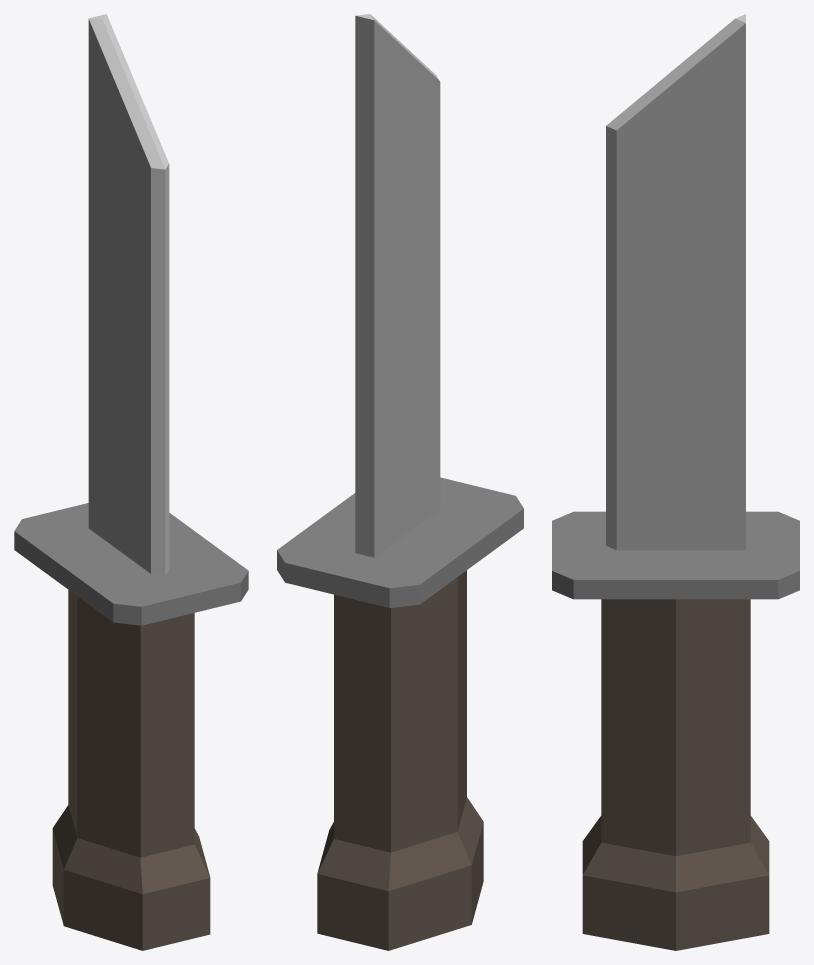
File: knife_sharp.fbx
3 views of the same model, side by side, from view 1: azimuth 30°, elevation 25°; view 2: azimuth 150°, elevation 25°; view 3: azimuth 270°, elevation 25° (orthographic). The views are drawn at different scales.
Parts seen in each view (by area): view 1: Mesh1_Group1 Model; view 2: Mesh1_Group1 Model; view 3: Mesh1_Group1 Model.
Part boxes in pixels (x1,y1,x2,y2): Mesh1_Group1 Model: (14, 14, 248, 950); Mesh1_Group1 Model: (277, 14, 523, 950); Mesh1_Group1 Model: (552, 14, 799, 950).
Size of the model in its own units: 0.009 by 0.0552 by 0.0138.
